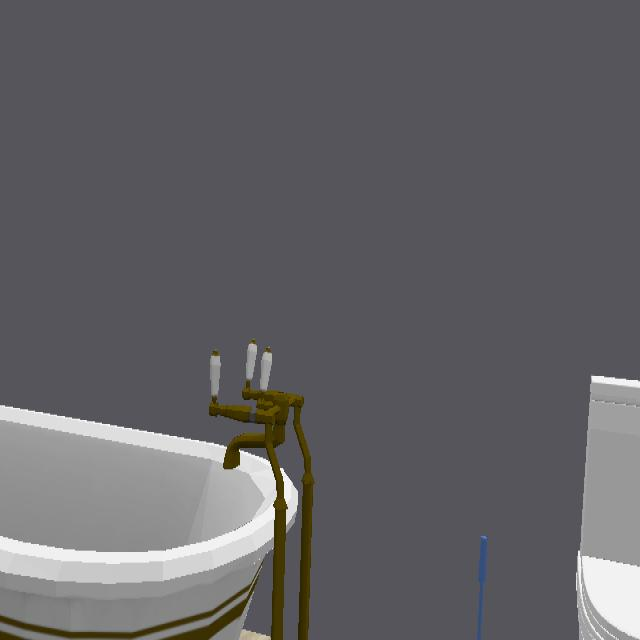bathtube: (0, 383, 311, 640)
toilet: (578, 376, 640, 636)
